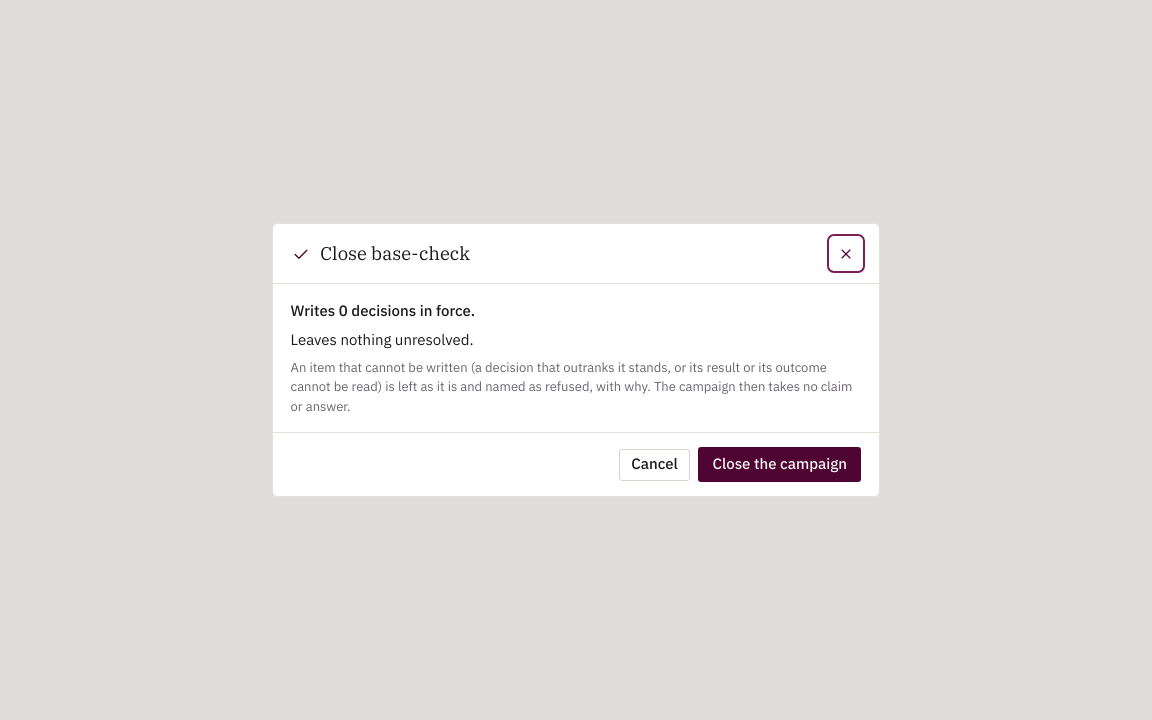
it: the close dialog › takes an engine's answer that closed in one call
The image size is (1152, 720).
Click the button "Close the campaign": (780, 465) [698,447,861,482]
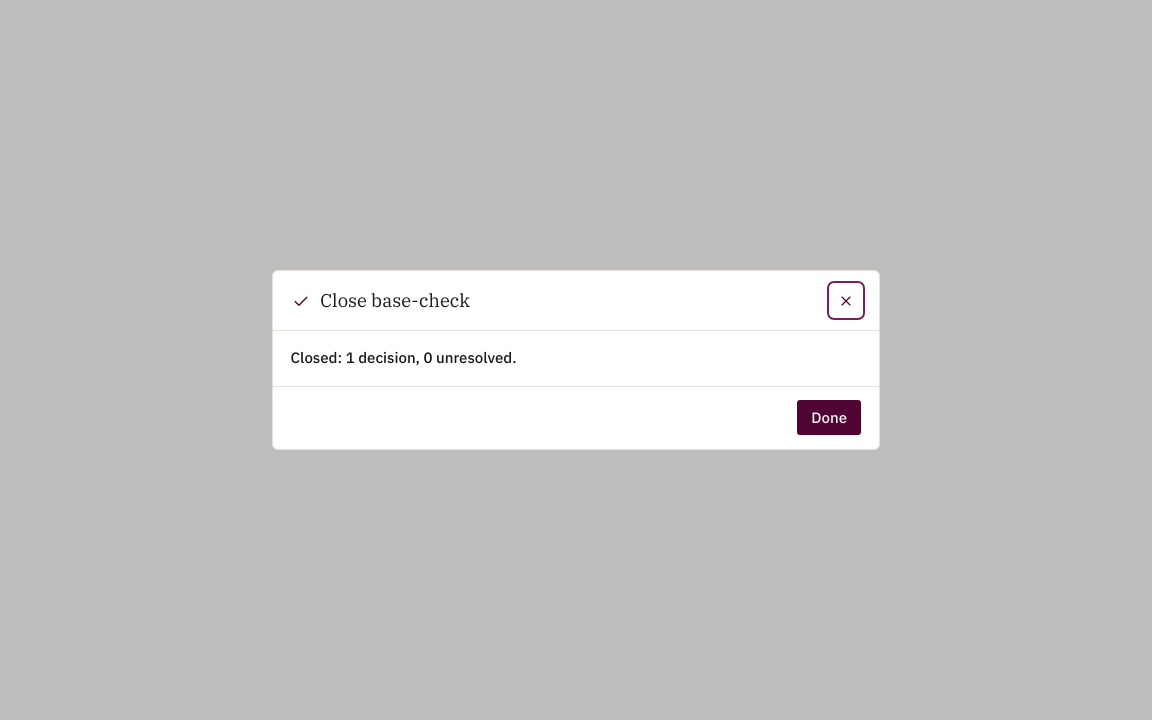
Expected: the text "Closed: 1 decision, 0 unresolved." is shown, [291,348,517,367]
